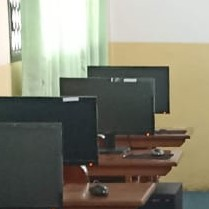monitor: (0, 96, 99, 165), (59, 77, 157, 136), (0, 122, 64, 205), (87, 65, 170, 115)
